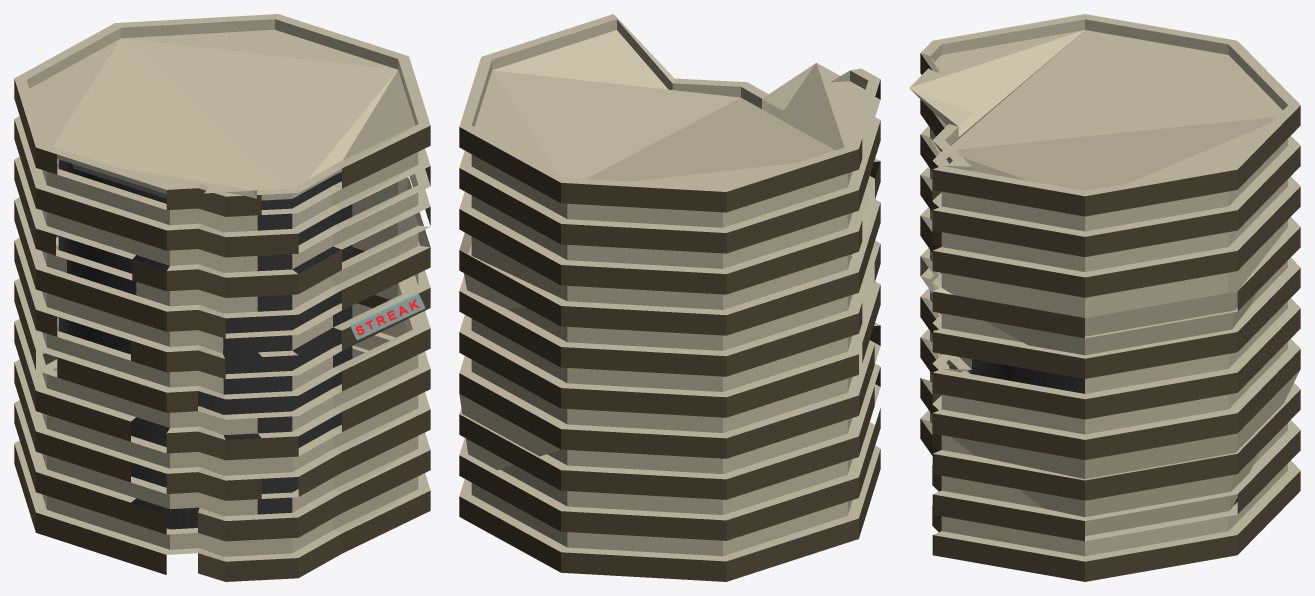
File: 06 Building_1.FBX
3 views of the same model, side by side, from view 1: azimuth 30°, elevation 25°; view 2: azimuth 150°, elevation 25°; view 3: azimuth 270°, elevation 25° (orthographic).
Visible parts, largest first — view 1: Building_1; view 2: Building_1; view 3: Building_1.
Boxes of the visible parts, x1,y1,x2,y2 form: Building_1: (14, 14, 430, 581); Building_1: (459, 14, 880, 581); Building_1: (909, 14, 1300, 581).
Size of the model in its own units: 3706 by 3990 by 3364.
